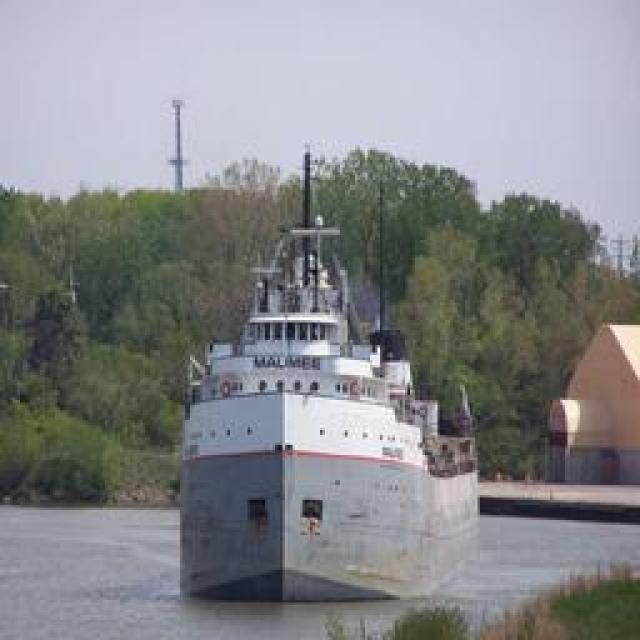ship2: (178, 155, 478, 606)
